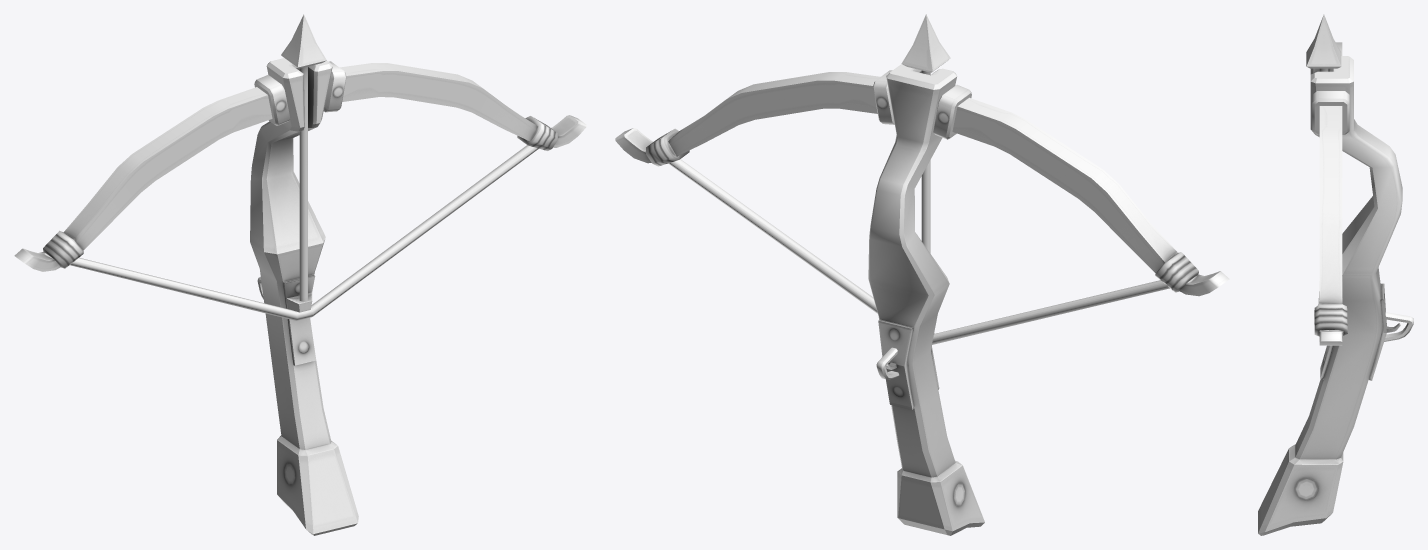
The picture shows the model from 3 angles, left to right: view 1: azimuth 30°, elevation 25°; view 2: azimuth 150°, elevation 25°; view 3: azimuth 270°, elevation 25°; orthographic projection. The views are drawn at different scales.
Visible parts, largest first — view 1: 026_a_crossbow_low; view 2: 026_a_crossbow_low; view 3: 026_a_crossbow_low.
Boxes of the visible parts, bbox=[...] form: 026_a_crossbow_low: bbox=[14, 14, 586, 535]; 026_a_crossbow_low: bbox=[615, 14, 1229, 535]; 026_a_crossbow_low: bbox=[1258, 14, 1413, 535].
Size of the model in its own units: 96.61 by 81.04 by 22.36.
